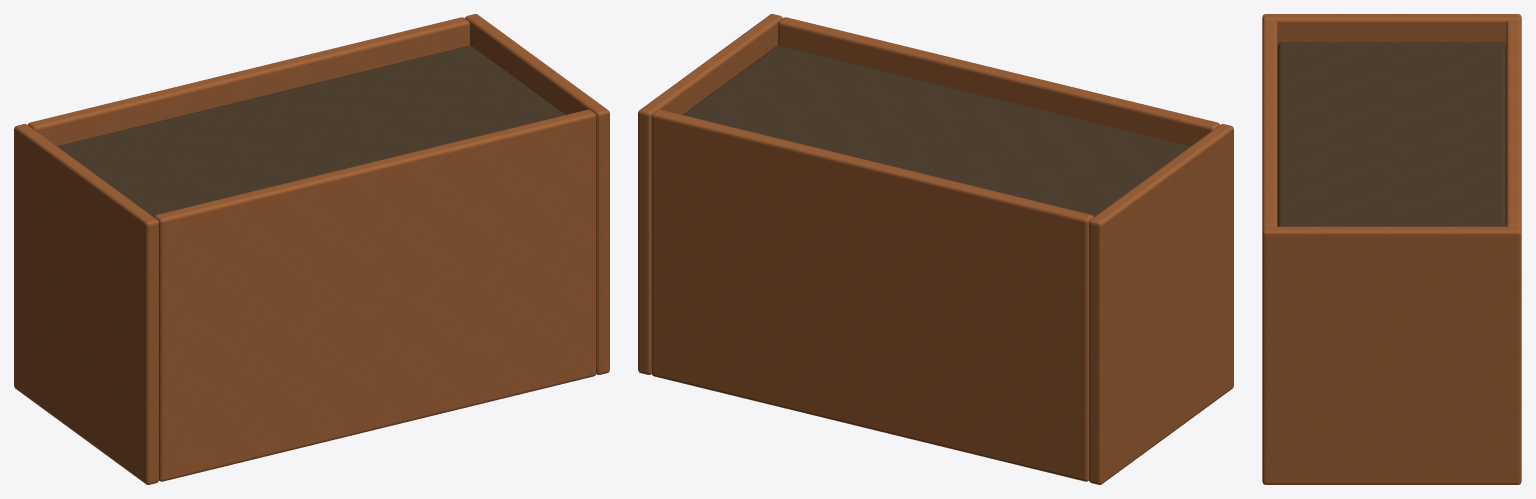
File: weathering-steel-planter.glb
The picture shows the model from 3 angles, left to right: view 1: azimuth 30°, elevation 25°; view 2: azimuth 150°, elevation 25°; view 3: azimuth 270°, elevation 25°; orthographic projection. The views are drawn at different scales.
Parts seen in each view (by area): view 1: Planter side, Planter end, Recessed planting soil, Planter side.001, Planter end.001; view 2: Planter side.001, Planter end, Recessed planting soil, Planter side, Planter end.001; view 3: Planter end.001, Recessed planting soil, Planter end, Planter side, Planter side.001.
Part boxes in pixels (x1,y1,x2,y2): Planter side: (154,109,596,481); Planter end: (14,124,158,484); Recessed planting soil: (57,46,564,216); Planter side.001: (28,17,469,145); Planter end.001: (465,14,609,374); Planter side.001: (651,109,1093,481); Planter end: (1089,124,1233,484); Recessed planting soil: (683,46,1190,216); Planter side: (778,17,1219,145); Planter end.001: (638,14,782,374); Planter end.001: (1262,226,1521,484); Recessed planting soil: (1277,42,1506,226); Planter end: (1262,14,1521,45); Planter side: (1262,20,1277,229); Planter side.001: (1506,20,1521,229).
Bounding box in the file's own units: 1.2 × 0.65 × 0.6.
2 materials, 2 textured.
